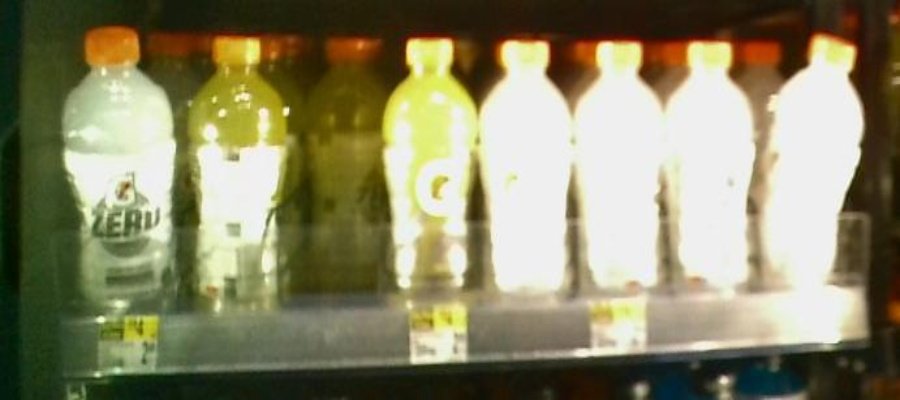bottle: (65, 28, 178, 358), (184, 31, 292, 348), (387, 36, 482, 338), (768, 29, 866, 313), (485, 32, 572, 332), (666, 29, 750, 317), (303, 36, 384, 329), (577, 39, 656, 324)
